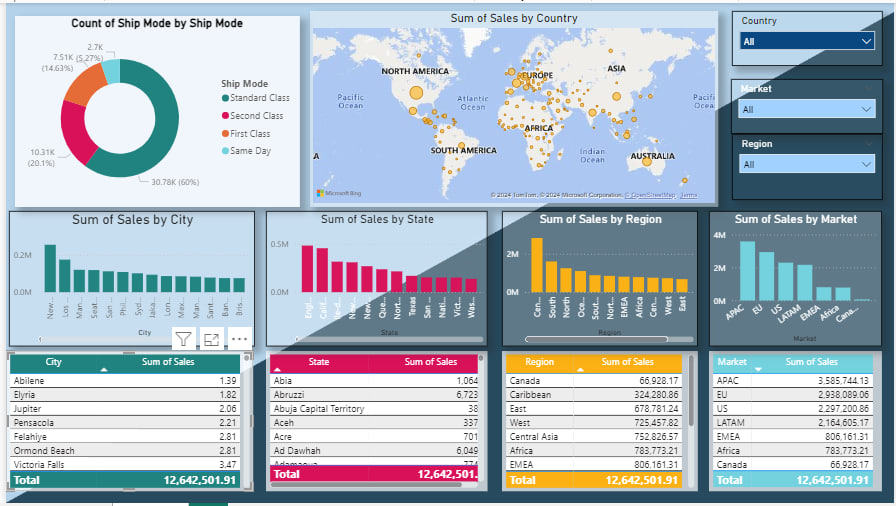

What the dashboard file says about the page in this screenshot:
{"tool":"powerbi","page":{"name":"Page 1","canvas":[1280,720],"ordinal":0},"visuals":[{"type":"map","fields":{"Size":["Sum(Orders.Sales)"],"Category":["Orders.Country"]},"box":[438.4,11.8,587.9,282.2],"z":0},{"type":"donutChart","fields":{"Category":["Orders.Ship Mode"],"Y":["CountNonNull(Orders.Ship Mode)"]},"box":[13.4,18.5,409.9,275.5],"z":1000},{"type":"slicer","fields":{"Values":["Orders.Country"]},"box":[1045.4,11.5,217.4,79.2],"z":2000},{"type":"slicer","fields":{"Values":["Orders.Region"]},"box":[1045.4,188.6,217.4,95],"z":3000},{"type":"slicer","fields":{"Values":["Orders.Market"]},"box":[1044,109.4,218.9,79.2],"z":4000},{"type":"columnChart","fields":{"Category":["Orders.City"],"Y":["Sum(Orders.Sales)"]},"box":[5,299,354.4,194.9],"z":5000},{"type":"tableEx","fields":{"Values":["Orders.City","Sum(Orders.Sales)"]},"box":[0,501.1,355.7,201.6],"z":6000},{"type":"tableEx","fields":{"Values":["Orders.State","Sum(Orders.Sales)"]},"box":[374.6,500.6,319.2,201.6],"z":7000},{"type":"tableEx","fields":{"Values":["Orders.Region","Sum(Orders.Sales)"]},"box":[713.9,500.6,282.2,201.6],"z":8000},{"type":"tableEx","fields":{"Values":["Orders.Market","Sum(Orders.Sales)"]},"box":[1012.9,500.6,248.6,201.6],"z":9000},{"type":"columnChart","fields":{"Category":["Orders.State"],"Y":["Sum(Orders.Sales)"]},"box":[374.6,299,319.2,194.9],"z":10000},{"type":"columnChart","fields":{"Category":["Orders.Region"],"Y":["Sum(Orders.Sales)"]},"box":[713.9,299,282.2,194.9],"z":11000},{"type":"columnChart","fields":{"Category":["Orders.Market"],"Y":["Sum(Orders.Sales)"]},"box":[1012.9,299,248.6,194.9],"z":12000}]}

Visuals, with their boxes in screenshot pixels (x1, y1, x2, y2), scaled from the page's 1280x720 canvas onto the 896x506 screenshot:
map - Sum(Orders.Sales) x Orders.Country: box=[307, 8, 718, 207]
donutChart - Orders.Ship Mode x CountNonNull(Orders.Ship Mode): box=[9, 13, 296, 207]
slicer - Orders.Country: box=[732, 8, 884, 64]
slicer - Orders.Region: box=[732, 133, 884, 199]
slicer - Orders.Market: box=[731, 77, 884, 133]
columnChart - Orders.City x Sum(Orders.Sales): box=[4, 210, 252, 347]
tableEx - Orders.City x Sum(Orders.Sales): box=[0, 352, 249, 494]
tableEx - Orders.State x Sum(Orders.Sales): box=[262, 352, 486, 493]
tableEx - Orders.Region x Sum(Orders.Sales): box=[500, 352, 697, 493]
tableEx - Orders.Market x Sum(Orders.Sales): box=[709, 352, 883, 493]
columnChart - Orders.State x Sum(Orders.Sales): box=[262, 210, 486, 347]
columnChart - Orders.Region x Sum(Orders.Sales): box=[500, 210, 697, 347]
columnChart - Orders.Market x Sum(Orders.Sales): box=[709, 210, 883, 347]
